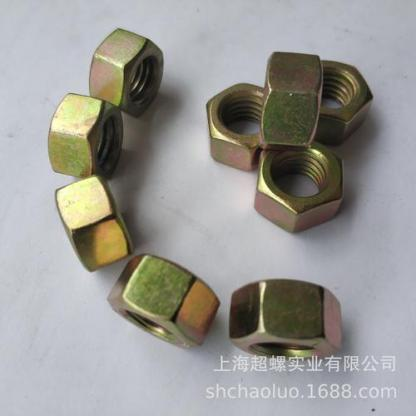FOD: (102, 251, 222, 354), (227, 276, 345, 366), (252, 134, 345, 235), (53, 174, 134, 275), (86, 25, 166, 121), (206, 82, 288, 174), (45, 92, 123, 183), (260, 48, 326, 148), (306, 54, 376, 139)
